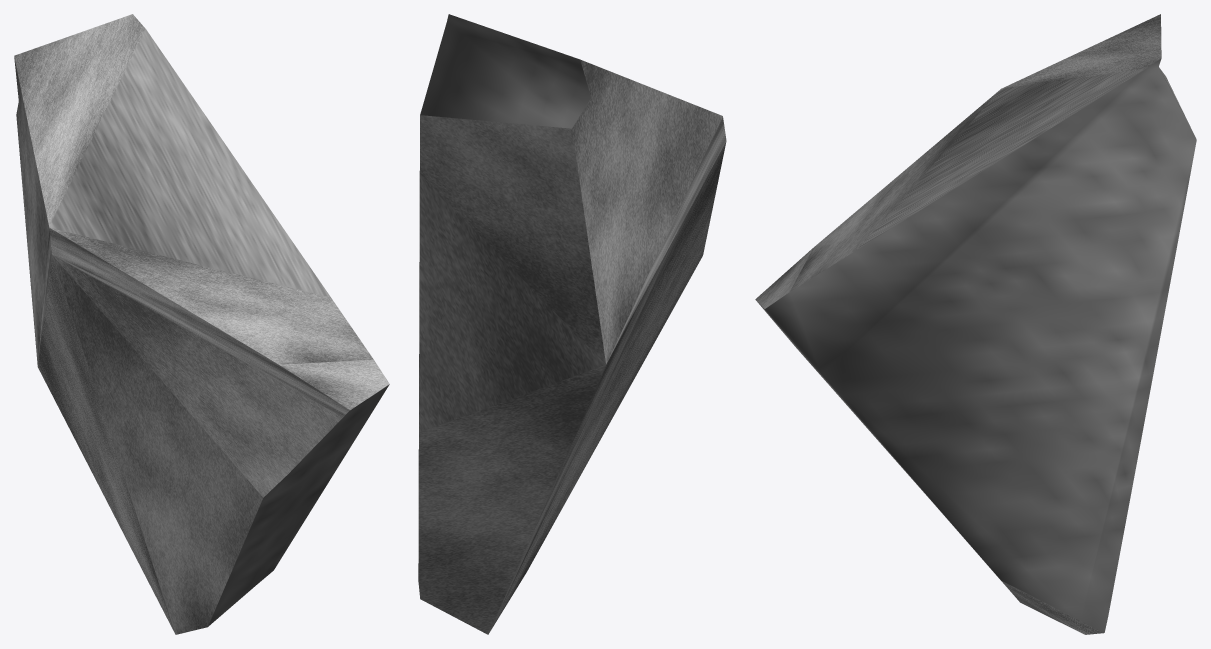
The model's file is leg_2_cell_021.fbx.
The picture shows the model from 3 angles, left to right: view 1: azimuth 30°, elevation 25°; view 2: azimuth 150°, elevation 25°; view 3: azimuth 270°, elevation 25°; orthographic projection. The views are drawn at different scales.
Parts seen in each view (by area): view 1: leg_2_cell.021; view 2: leg_2_cell.021; view 3: leg_2_cell.021.
Boxes of the visible parts, x1,y1,x2,y2 form: leg_2_cell.021: (14,14,389,634); leg_2_cell.021: (418,14,726,634); leg_2_cell.021: (755,14,1196,634).
Bounding box in the file's own units: 14.54 × 36.68 × 25.53.
